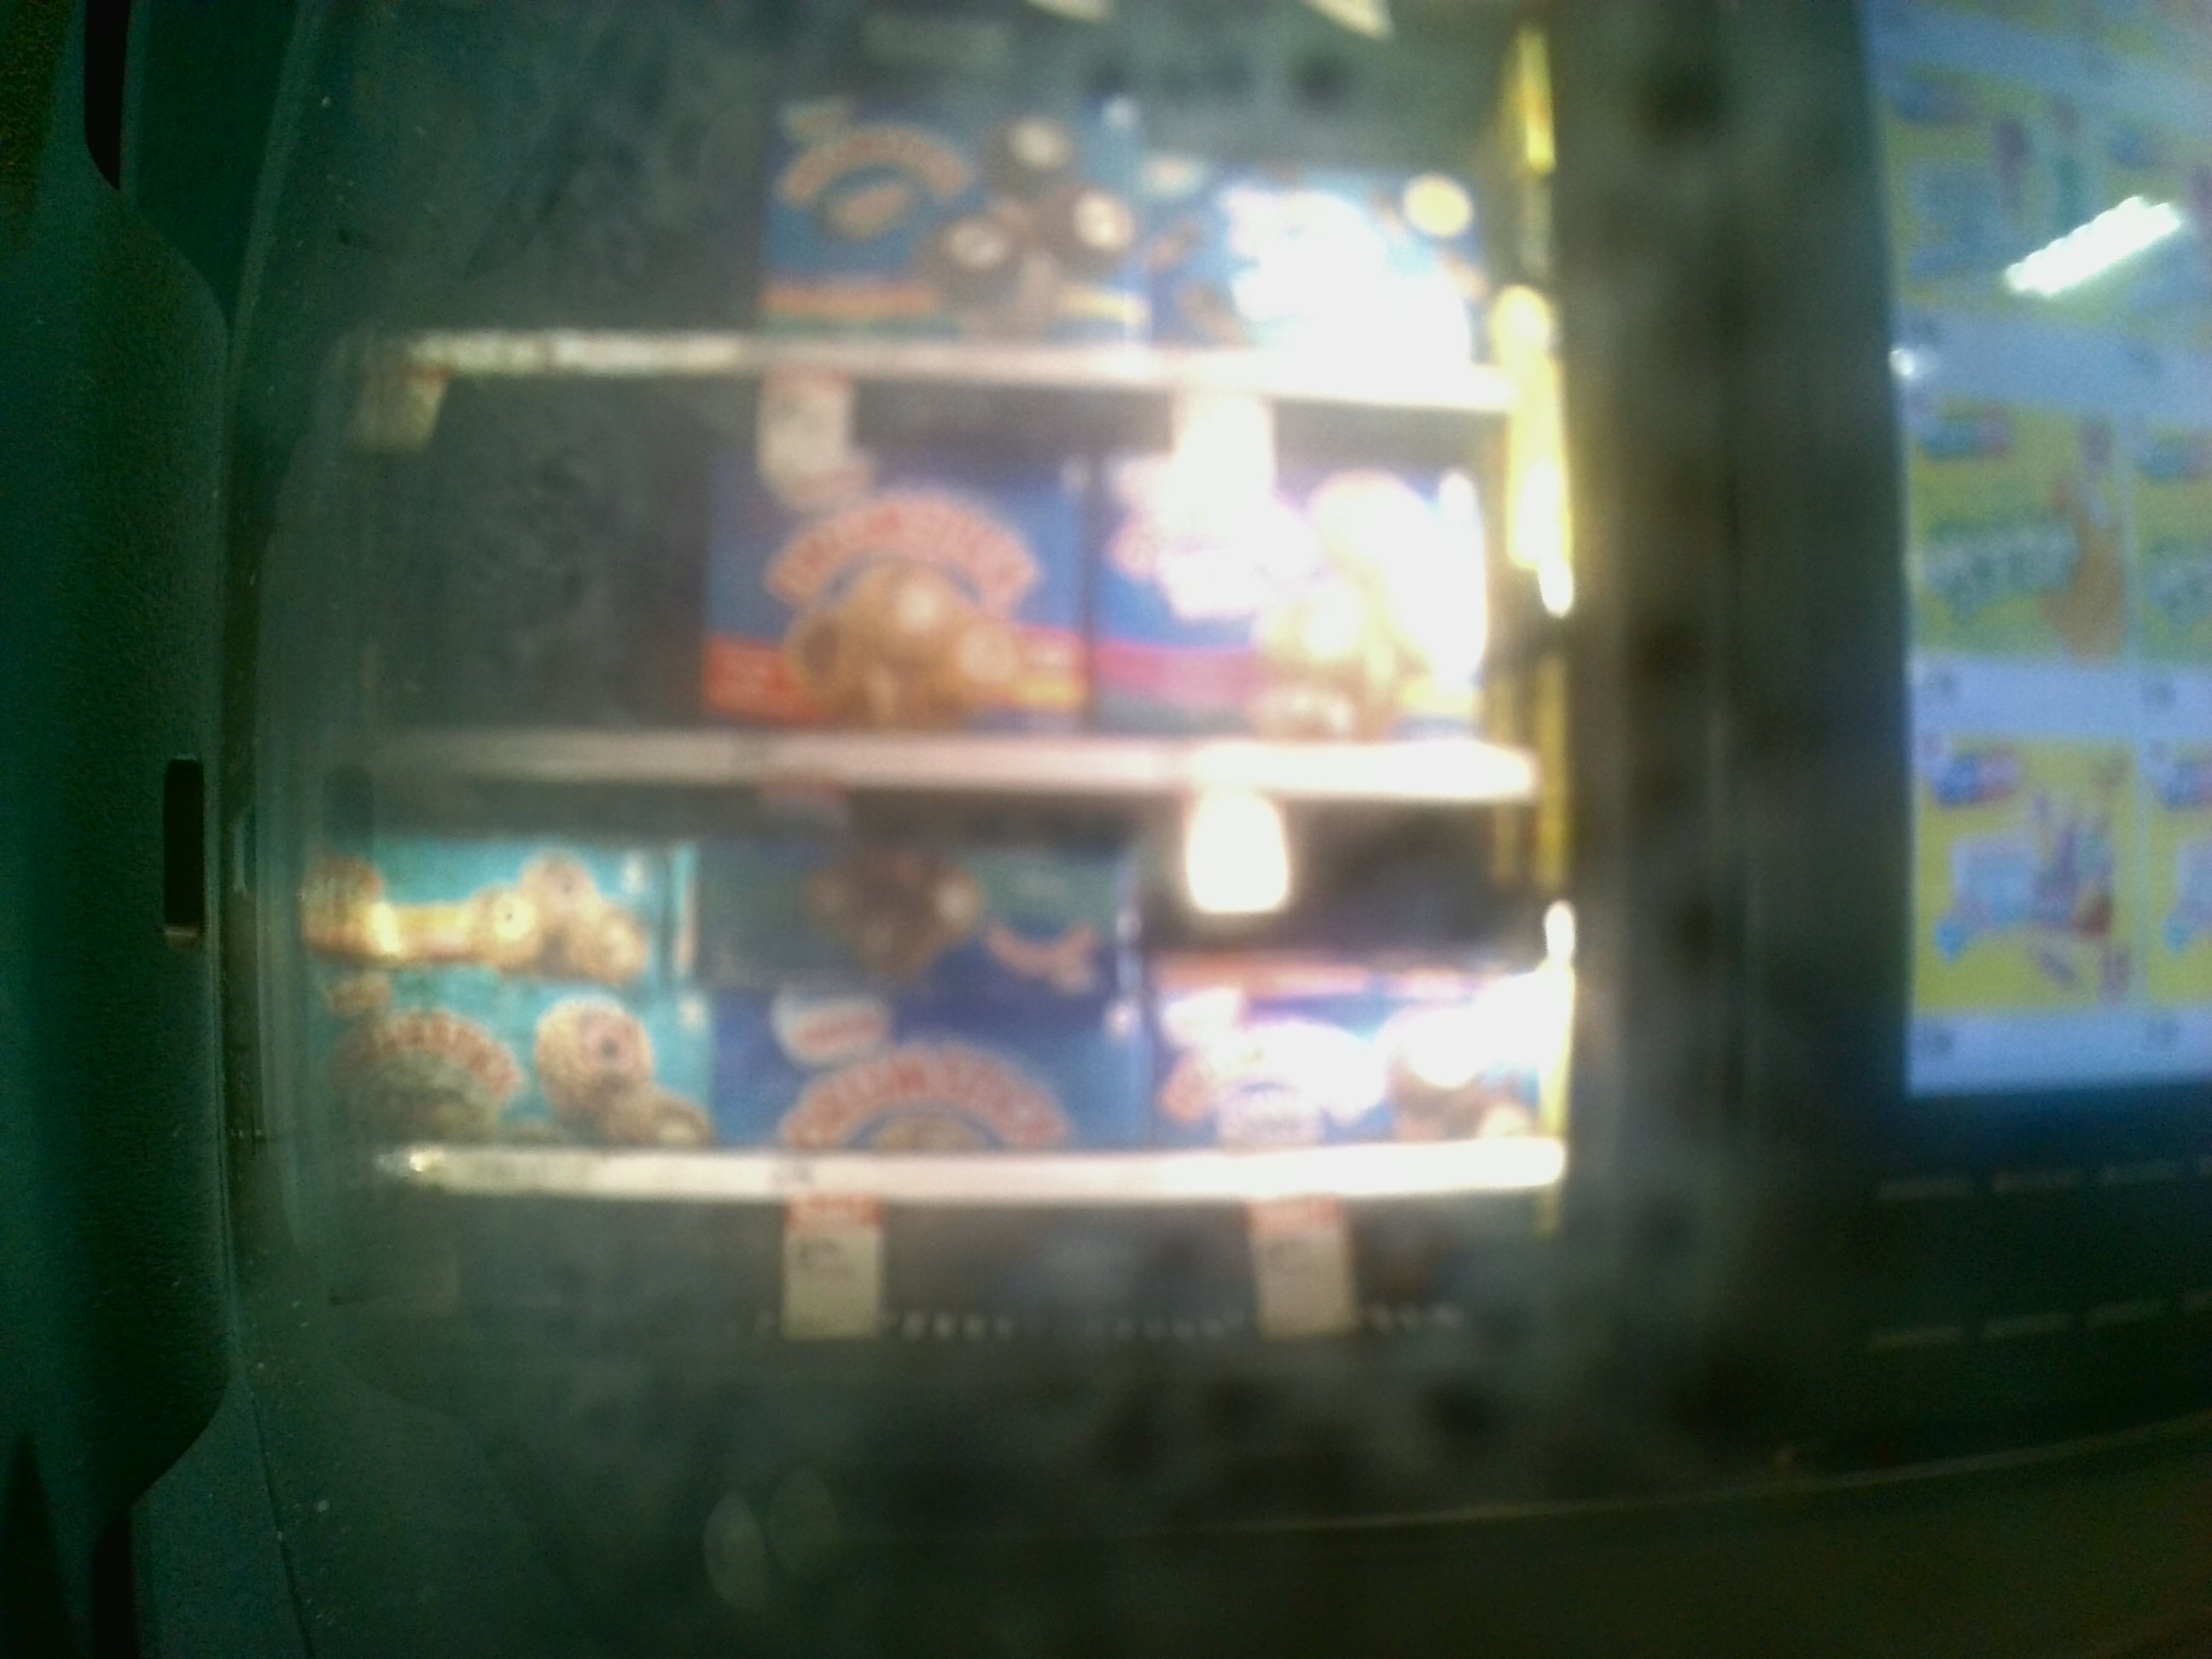shelf: (350, 779, 1588, 1199), (340, 373, 1594, 782)
